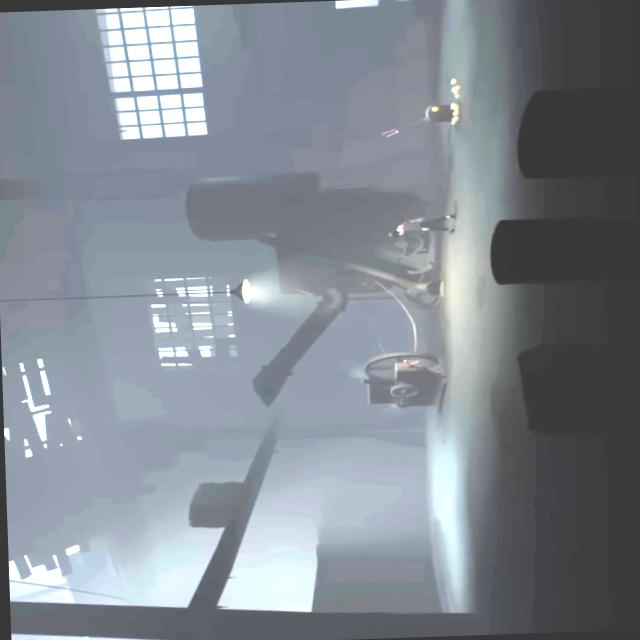boy: (386, 212, 456, 235)
